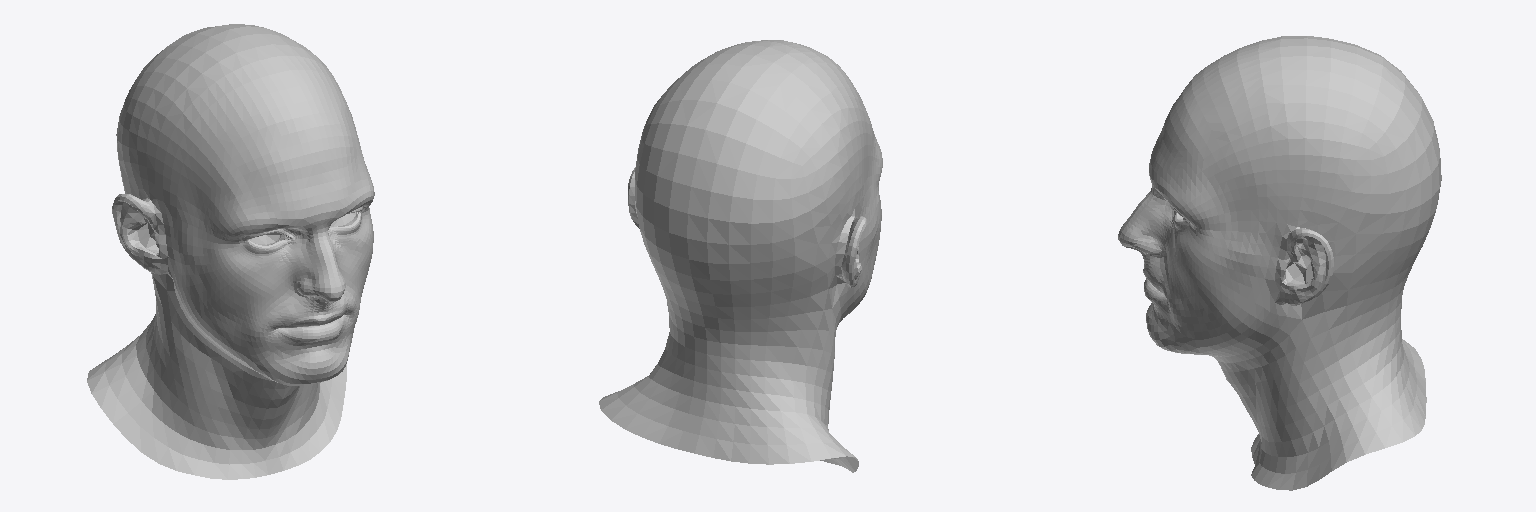
Rendered from Guy_BASE.obj.
3 views of the same model, side by side, from view 1: azimuth 30°, elevation 25°; view 2: azimuth 150°, elevation 25°; view 3: azimuth 270°, elevation 25° (orthographic).
Visible parts, largest first — view 1: CHA_PCM_Head_Head001_LOD0_ncl1_1SG, eyeIn; view 2: CHA_PCM_Head_Head001_LOD0_ncl1_1SG; view 3: CHA_PCM_Head_Head001_LOD0_ncl1_1SG.
Part boxes in pixels (left/top/right/bottom): CHA_PCM_Head_Head001_LOD0_ncl1_1SG: left=87, top=24, right=374, bottom=479; eyeIn: left=249, top=212, right=359, bottom=246; CHA_PCM_Head_Head001_LOD0_ncl1_1SG: left=599, top=40, right=882, bottom=472; CHA_PCM_Head_Head001_LOD0_ncl1_1SG: left=1118, top=36, right=1441, bottom=490.
Bounding box in the file's own units: 19.62 × 32.39 × 22.59.